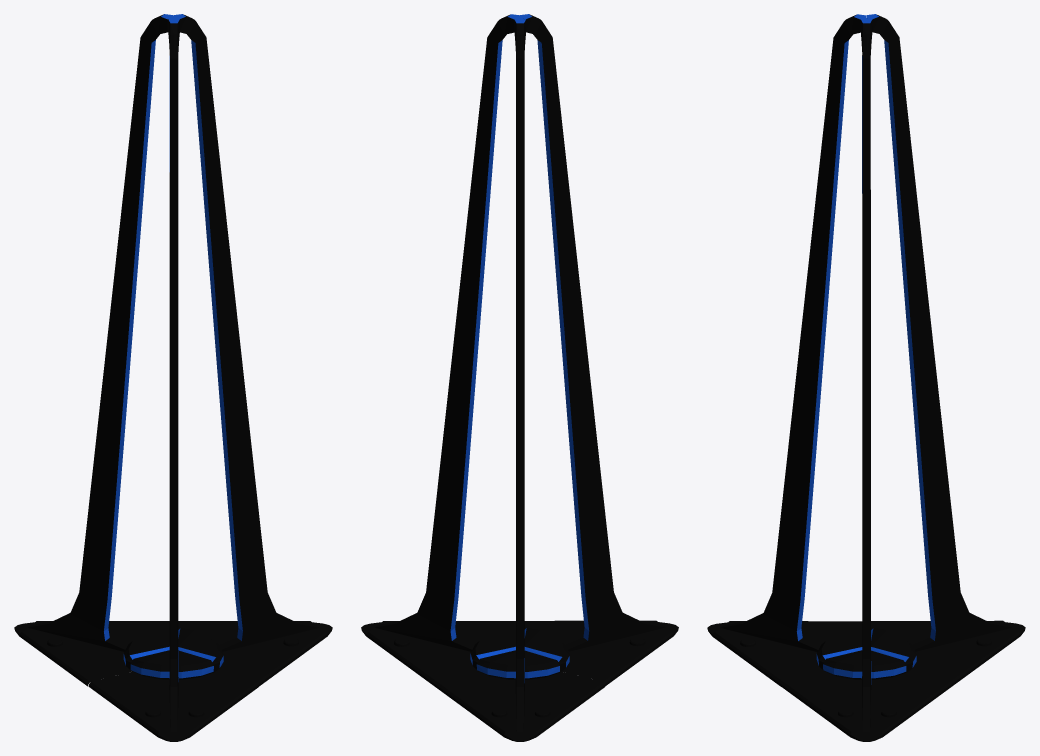
The model's file is rangetower.obj.
The picture shows the model from 3 angles, left to right: view 1: azimuth 30°, elevation 25°; view 2: azimuth 150°, elevation 25°; view 3: azimuth 270°, elevation 25°; orthographic projection.
Visible parts, largest first — view 1: Default; view 2: Default; view 3: Default.
Boxes of the visible parts, bbox=[...] form: Default: bbox=[14, 14, 332, 741]; Default: bbox=[361, 14, 678, 741]; Default: bbox=[707, 14, 1025, 741].
Bounding box in the file's own units: 0.5706 × 1.46 × 0.6482.
